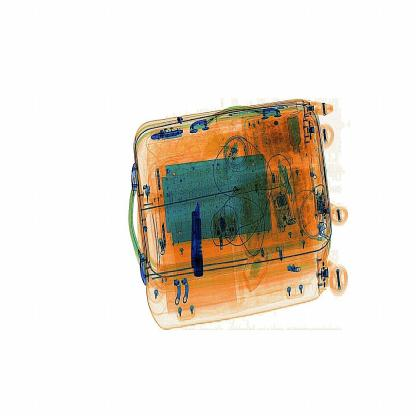pliers: (184, 202, 208, 279)
